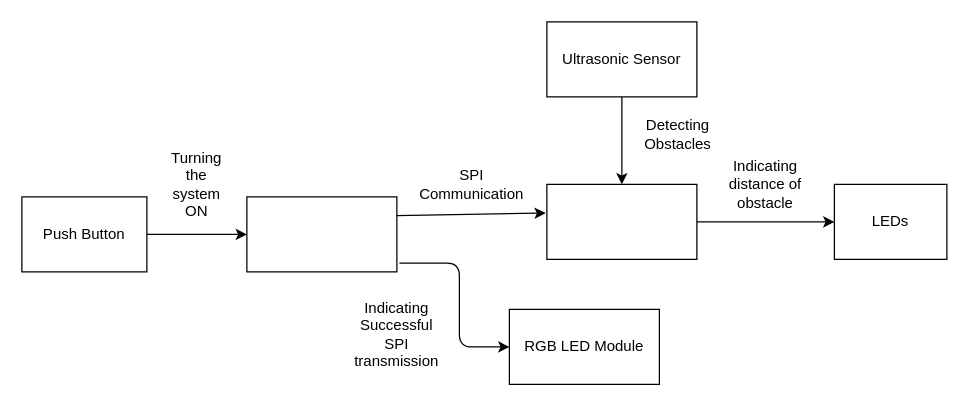
The diagram is 969 pixels wide and 406 high, and some of its shapes have lost their labels. Here are the shapes that lost their labels. From the top down, the box of each, then its label:
(246, 196, 397, 272): BBB
(546, 183, 697, 259): STM32
